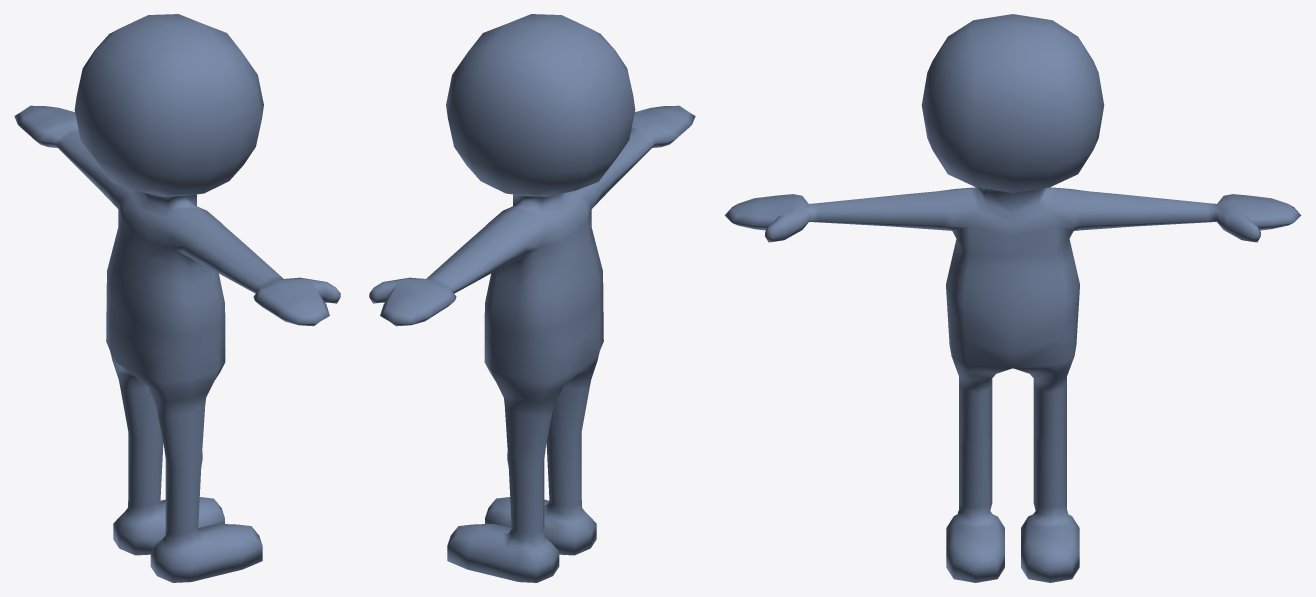
The model's file is stickman_blue.fbx.
3 renders of one model, left to right at view 1: azimuth 30°, elevation 25°; view 2: azimuth 150°, elevation 25°; view 3: azimuth 270°, elevation 25°, orthographic.
Parts seen in each view (by area): view 1: stickman_blue; view 2: stickman_blue; view 3: stickman_blue.
Boxes of the visible parts, left/top/right/bottom form: stickman_blue: left=14, top=14, right=340, bottom=582; stickman_blue: left=369, top=14, right=695, bottom=582; stickman_blue: left=724, top=14, right=1301, bottom=582.
Size of the model in its own units: 87.85 by 282 by 281.
